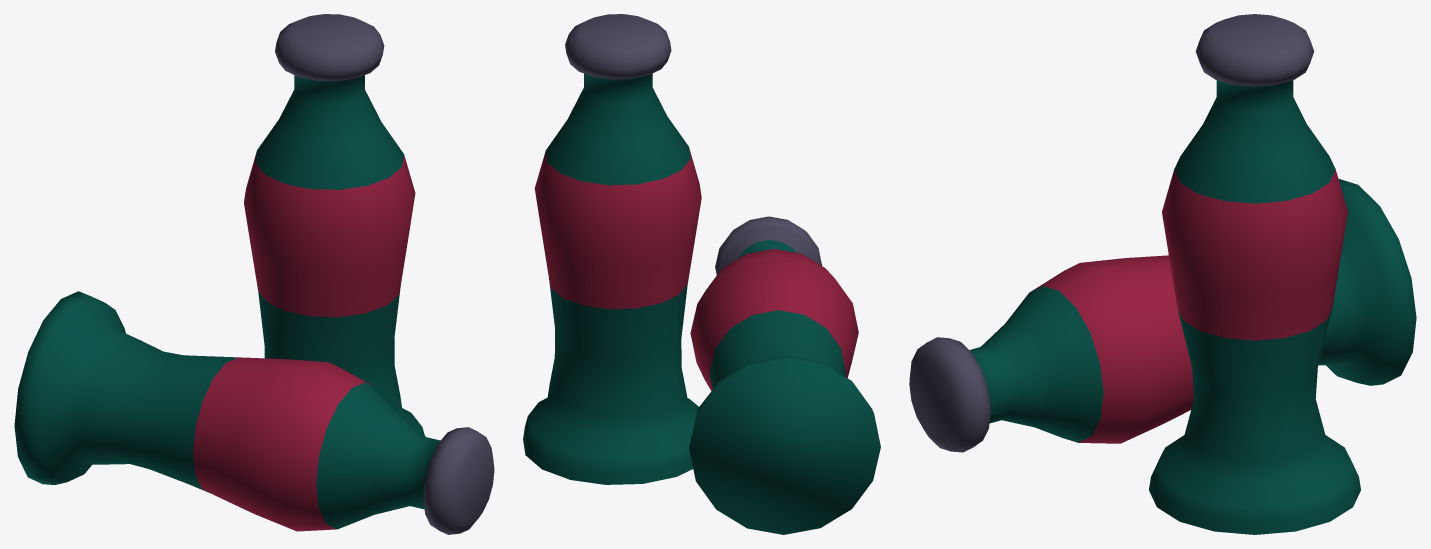
The model's file is TableDecor_01_50s.glb.
The picture shows the model from 3 angles, left to right: view 1: azimuth 30°, elevation 25°; view 2: azimuth 150°, elevation 25°; view 3: azimuth 270°, elevation 25°; orthographic projection. The views are drawn at different scales.
Visible parts, largest first — view 1: TableDecor_01_50s; view 2: TableDecor_01_50s; view 3: TableDecor_01_50s.
Part boxes in pixels (<box>): TableDecor_01_50s: <box>14,14,494,534</box>; TableDecor_01_50s: <box>523,14,880,534</box>; TableDecor_01_50s: <box>909,14,1416,534</box>.
Size of the model in its own units: 0.1221 by 0.1322 by 0.1319.
1 material, 1 textured.
